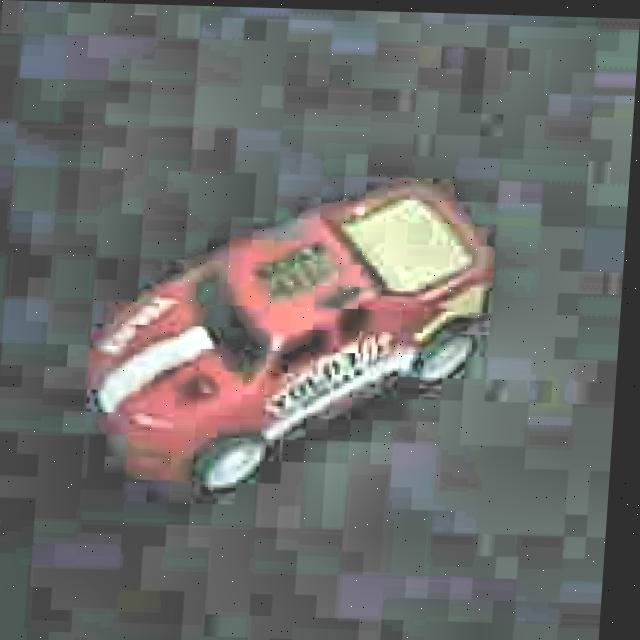car: (84, 166, 506, 504)
